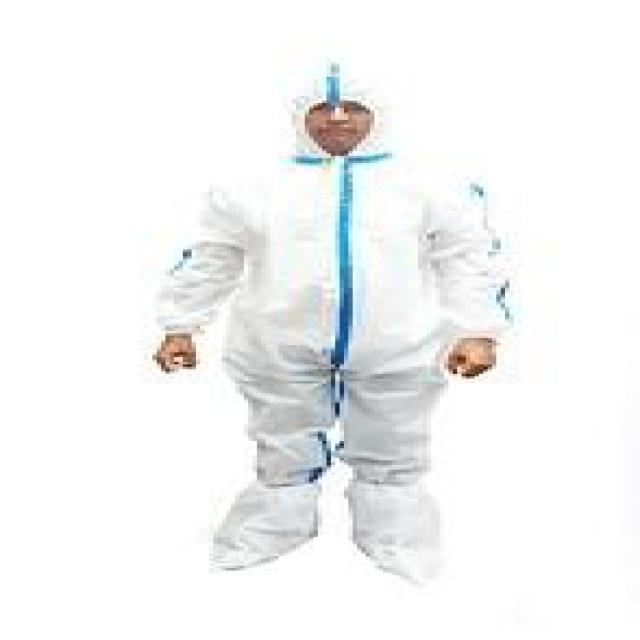Coverall: (135, 62, 544, 544)
